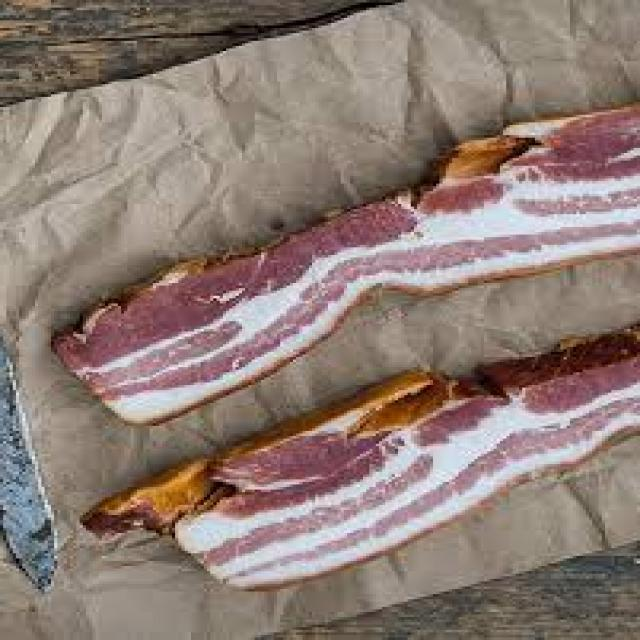bacon: (55, 110, 640, 425), (104, 332, 640, 586)
